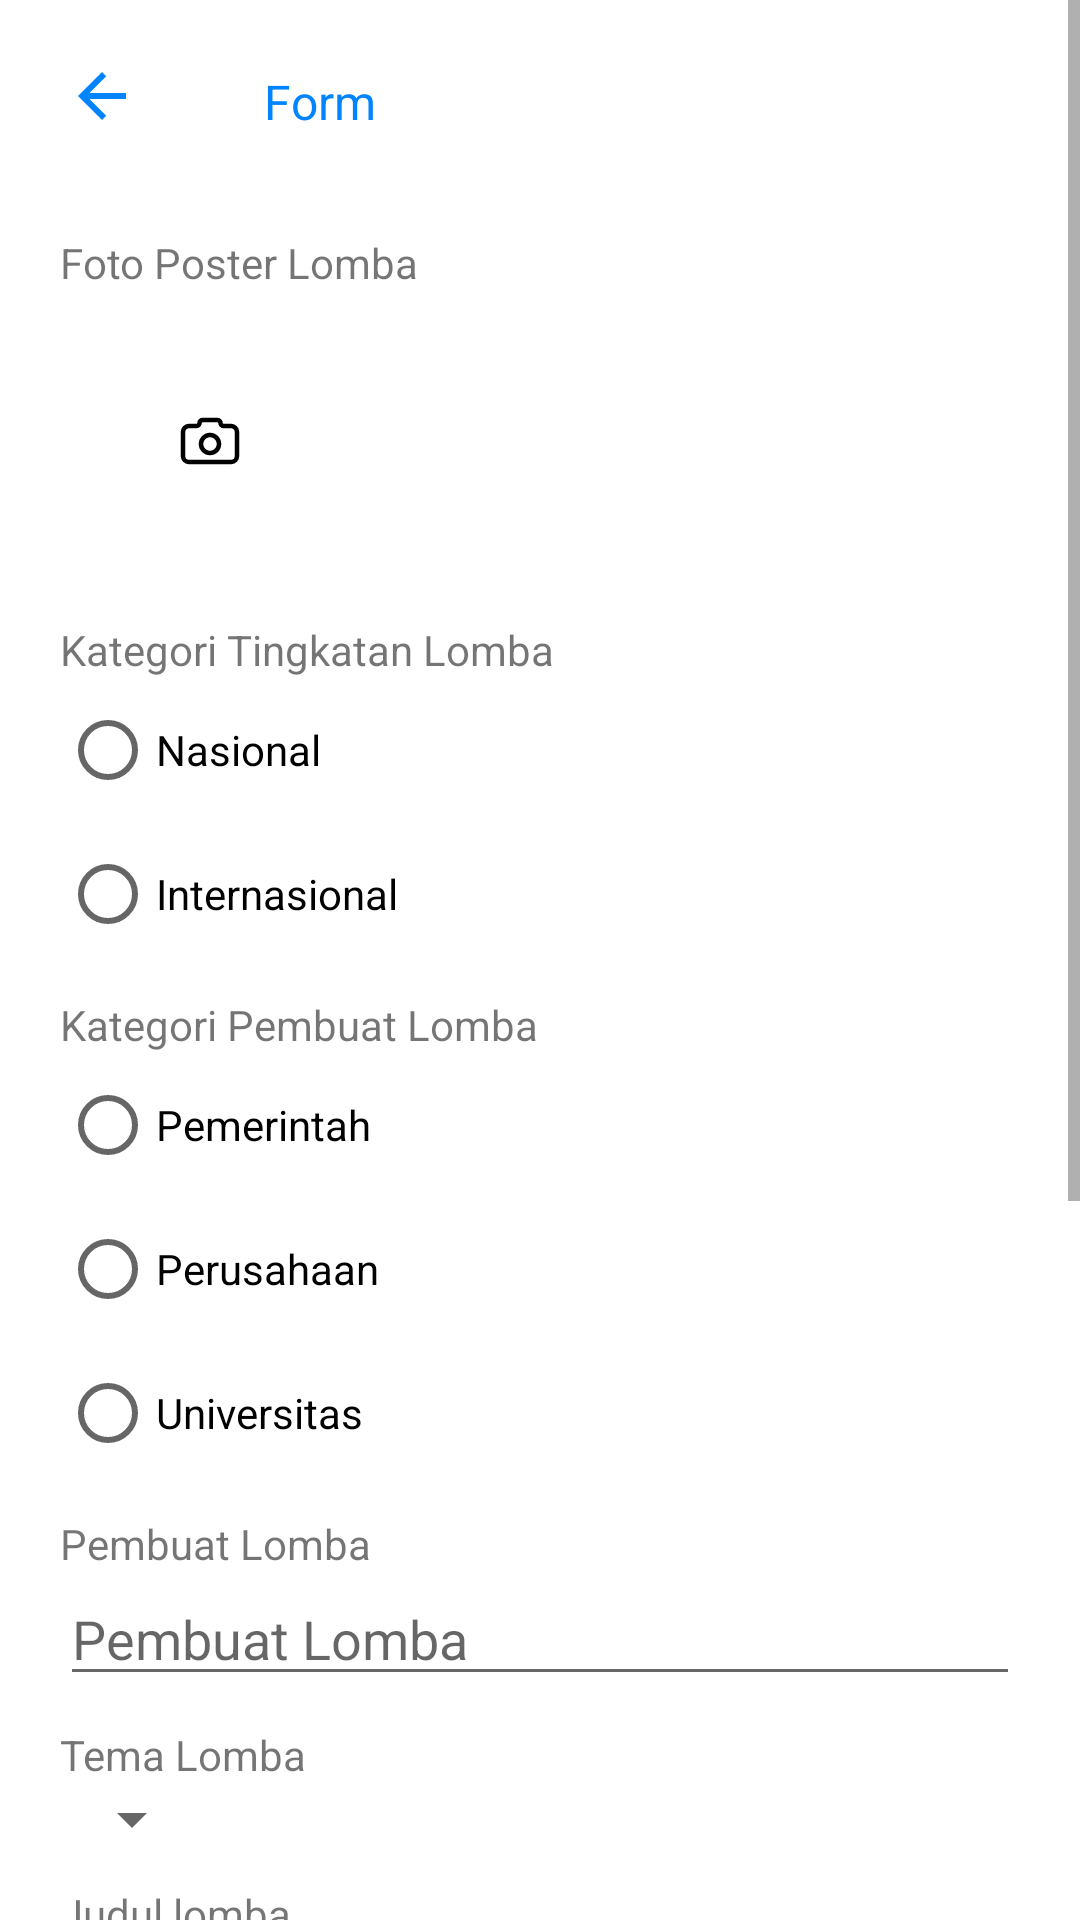

Locate icon controls on the screen. Image size 1080px×1920px, boxes as (x1, y1, x2, y2).
back: (78, 72, 126, 120)
camera: (180, 417, 240, 465)
